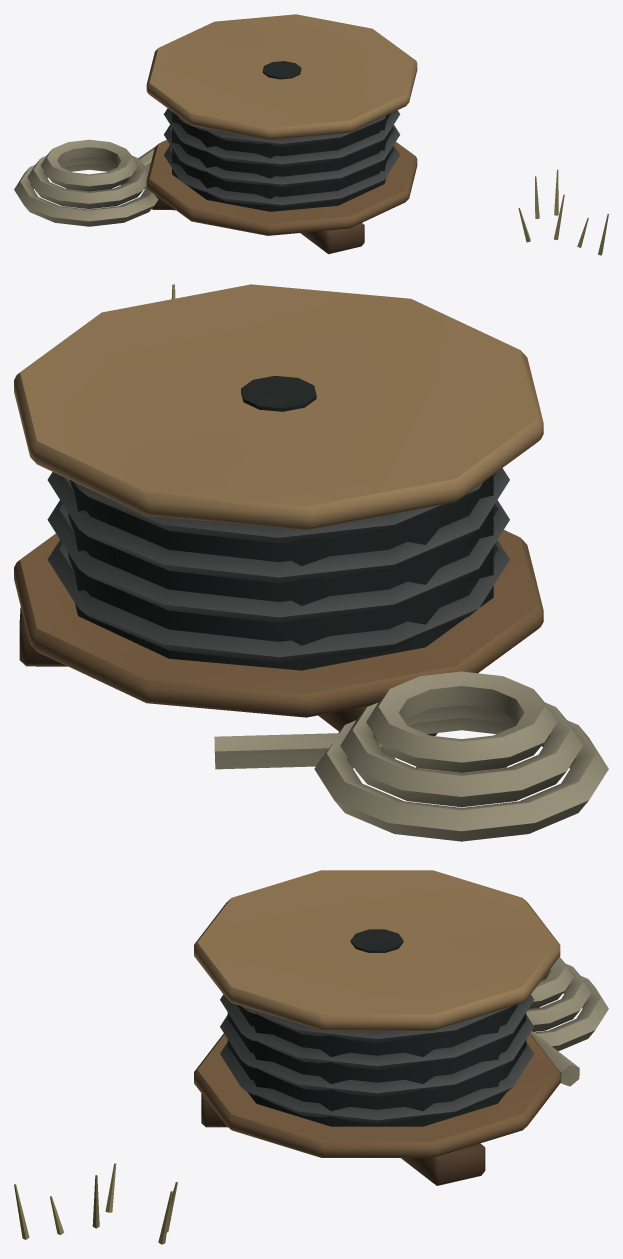
Rendered from cable_drum_a.glb.
The picture shows the model from 3 angles, top to bottom: view 1: azimuth 30°, elevation 25°; view 2: azimuth 150°, elevation 25°; view 3: azimuth 270°, elevation 25°; orthographic projection. The views are drawn at different scales.
Visible parts, largest first — view 1: Surface; view 2: Surface; view 3: Surface.
Boxes of the visible parts, x1=… form: Surface: x1=14, y1=14, x2=608, y2=255; Surface: x1=14, y1=284, x2=608, y2=841; Surface: x1=14, y1=870, x2=608, y2=1244.
Bounding box in the file's own units: 5.34 × 1.68 × 5.08.
